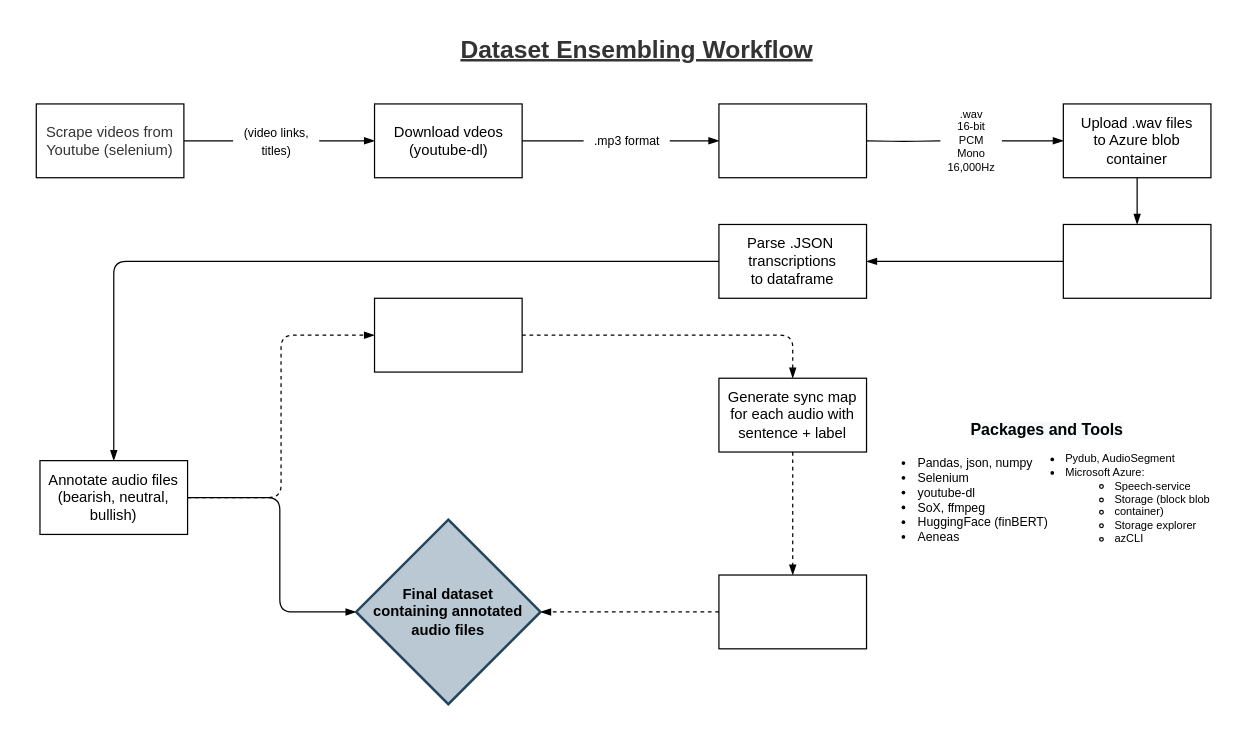
Some shapes in this 1256 by 743 pixel diagram are drawn without their labels. Each missing label, with the centre of its shape:
Audio batch convert: the point at 792,140
Batch transcription (Azure Speech API): the point at 1136,260
Segment each audio file by sentence, attach label: the point at 792,611
Sentence sentiment via transformer (finBERT): the point at 447,334
